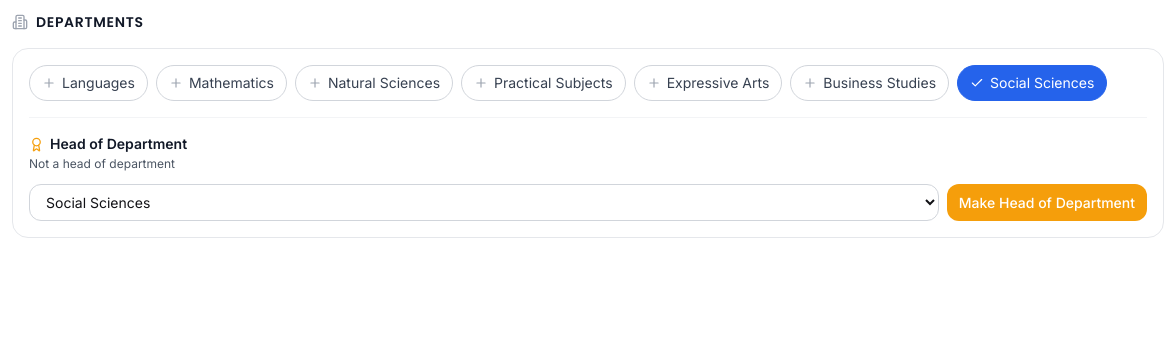
Test case: Teacher Management → Departments › admin adds a teacher to departments, saves, then makes them Head of Department
Click the button "Languages" at (88, 83), box [29, 65, 148, 101]
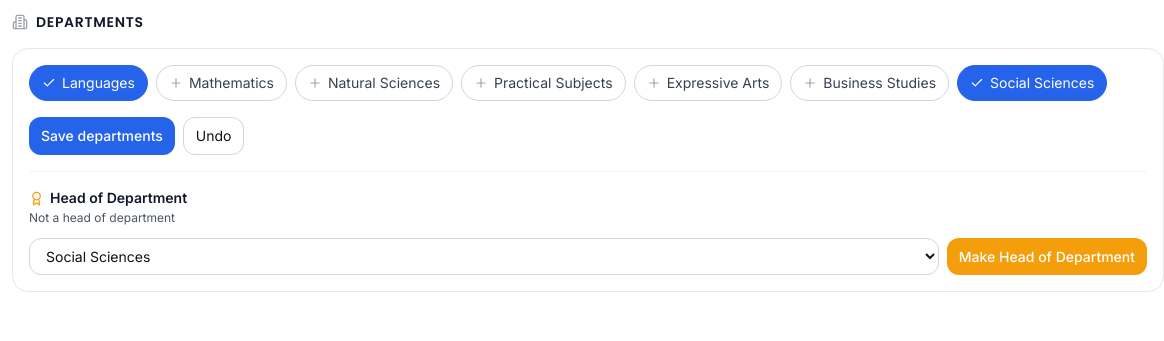
Click the button "Save departments" at (102, 136), box [29, 117, 175, 155]
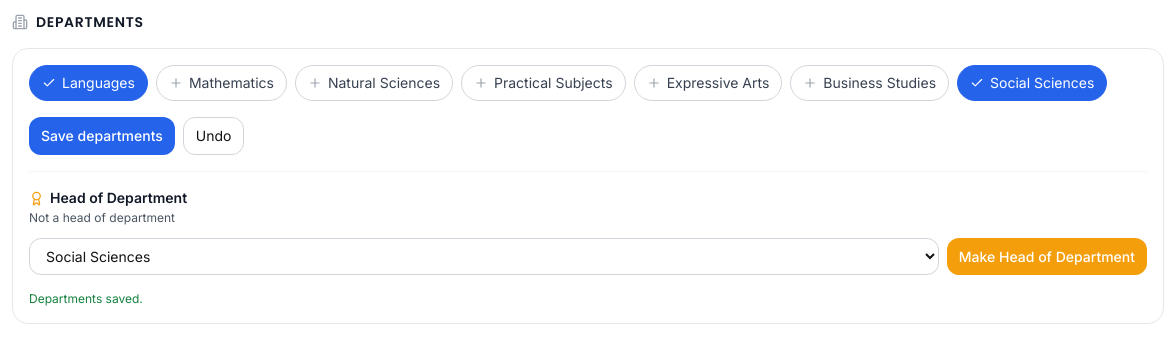
// HoD choices are the saved departments
Select "Social Sciences" in the dropdown named "Department to head" at (484, 256), box [29, 238, 939, 275]
Click the button "Make Head of Department" at (1047, 256), box [947, 238, 1147, 275]
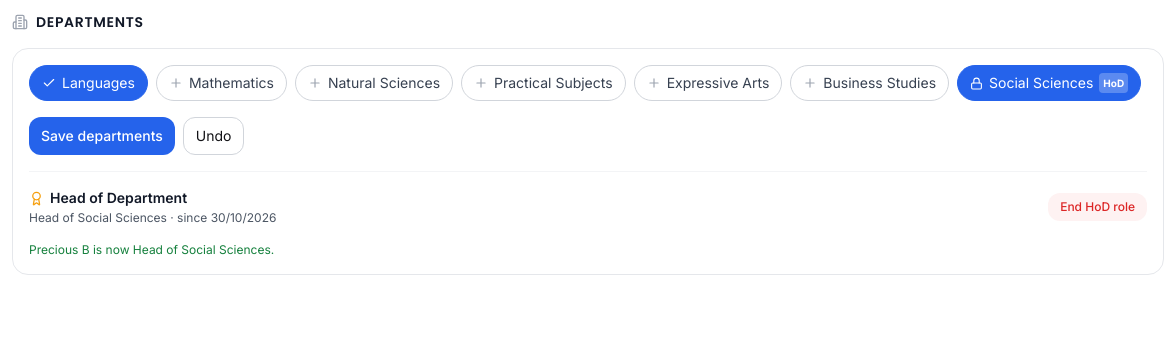
Result: the text "Precious B is now Head of Social Sciences." is shown at [29, 242, 274, 257]
